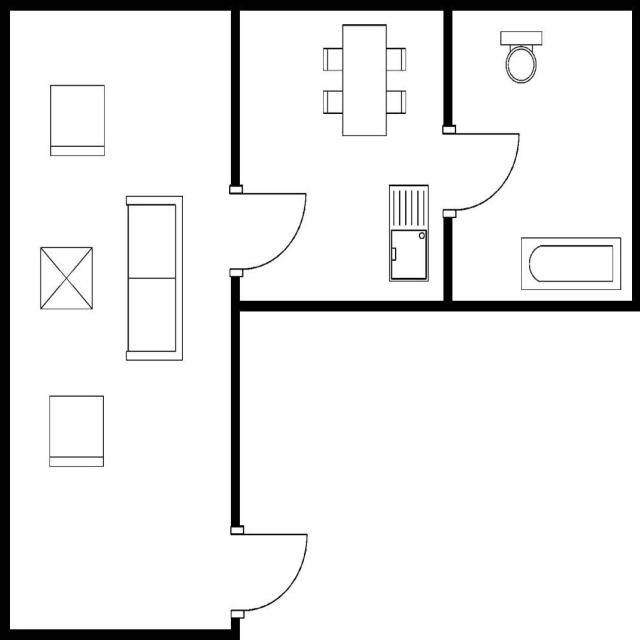coffee_table: (34, 242, 96, 314)
dining_table: (318, 19, 408, 143)
large_sink: (494, 28, 542, 86)
large_sofa: (121, 189, 187, 365)
sink: (385, 180, 431, 288)
small_sofa: (43, 391, 107, 472), (44, 81, 108, 161)
tub: (517, 234, 623, 292)
